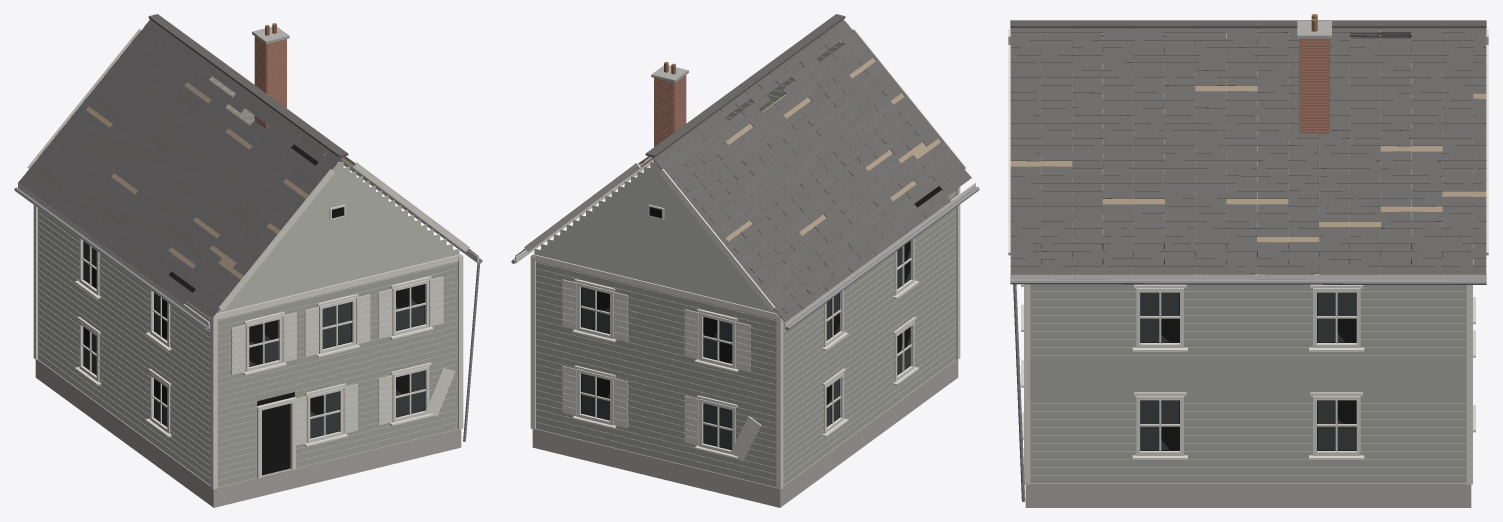
Rendered from house_c.glb.
3 views of the same model, side by side, from view 1: azimuth 30°, elevation 25°; view 2: azimuth 150°, elevation 25°; view 3: azimuth 270°, elevation 25° (orthographic). The views are drawn at different scales.
Visible parts, largest first — view 1: House; view 2: House; view 3: House.
Boxes of the visible parts, left/top/right/bottom form: House: left=14, top=14, right=482, bottom=507; House: left=511, top=14, right=979, bottom=507; House: left=1008, top=14, right=1488, bottom=507.
Size of the model in its own units: 9.08 by 11.13 by 10.89.
